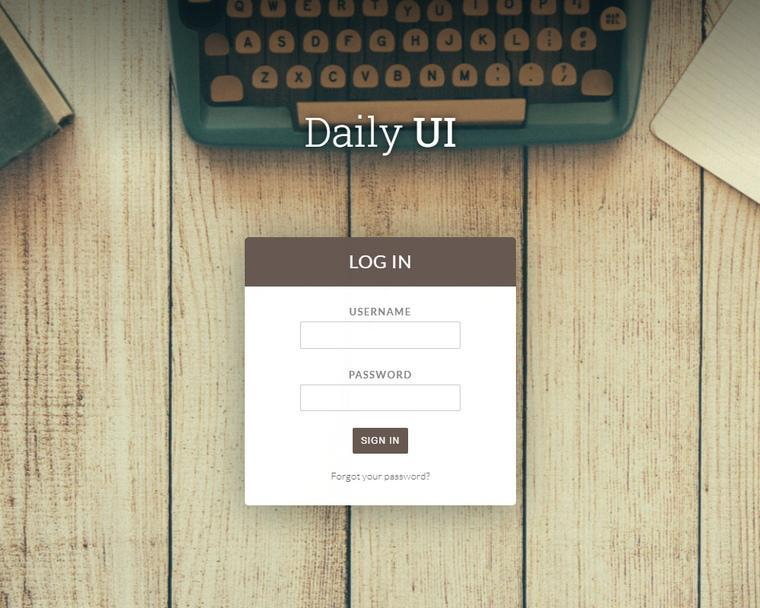button: (354, 427, 409, 455)
input: (302, 323, 462, 351), (302, 386, 462, 411)
label: (301, 113, 460, 160), (344, 255, 417, 274), (345, 365, 414, 383), (348, 303, 414, 320)
